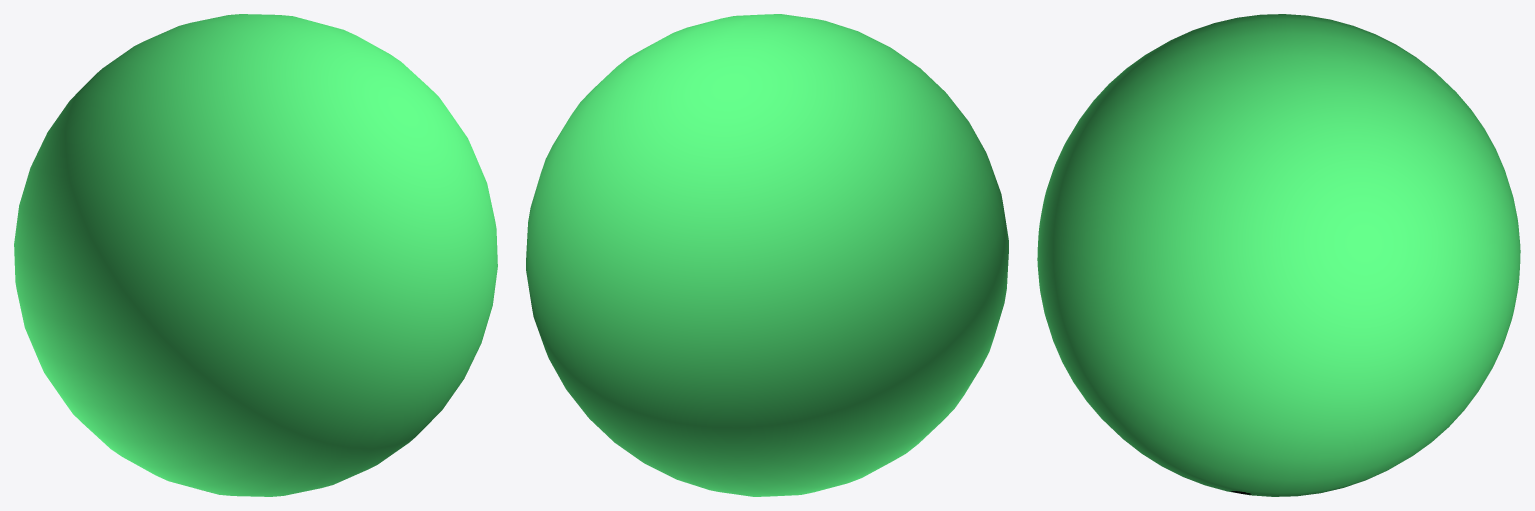
3 renders of one model, left to right at view 1: azimuth 30°, elevation 25°; view 2: azimuth 150°, elevation 25°; view 3: azimuth 270°, elevation 25°, orthographic.
Visible parts, largest first — view 1: Sphere; view 2: Sphere; view 3: Sphere.
Boxes of the visible parts, x1,y1,x2,y2 form: Sphere: (14,14,497,496); Sphere: (526,14,1008,496); Sphere: (1037,14,1520,496).
Size of the model in its own units: 0.3115 by 0.3116 by 0.3118.
1 material, 1 textured.
